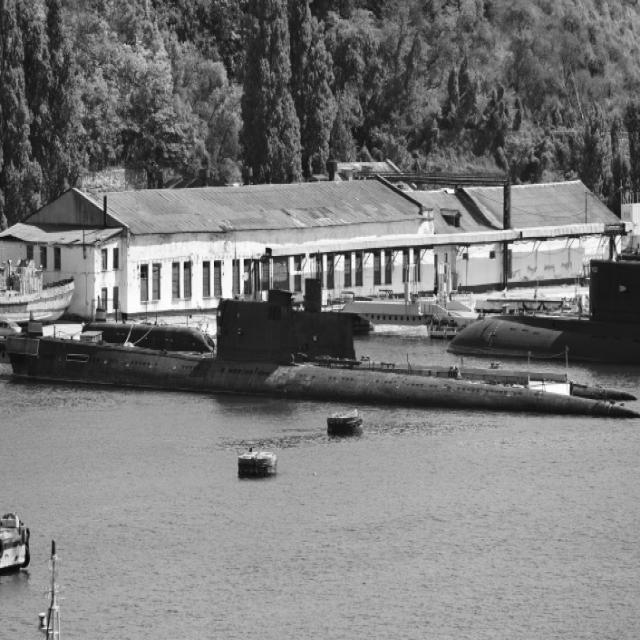submarine: (1, 273, 640, 419)
